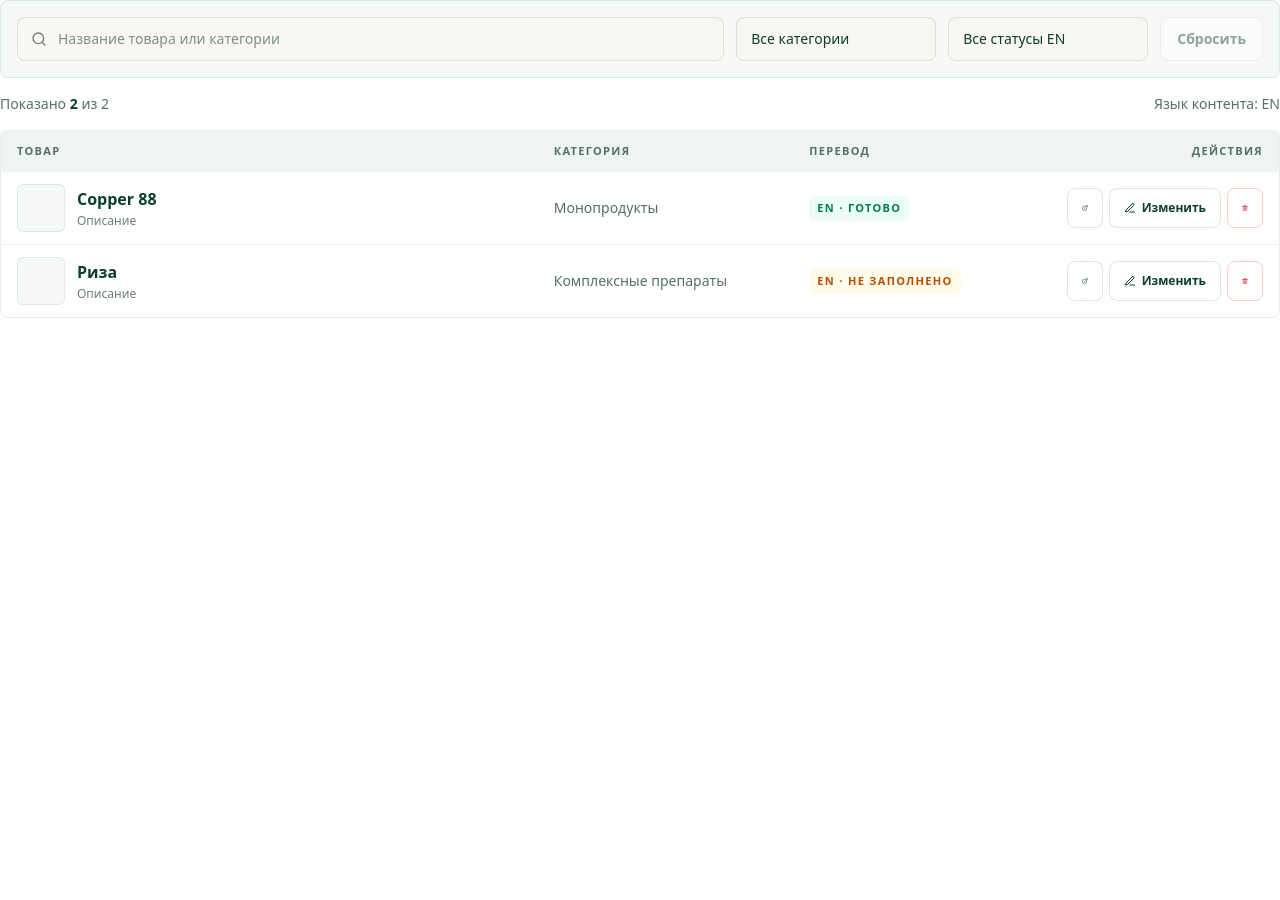
Test case: ProductAdminList › opens an accessible confirmation dialog and cancels without submitting
This screenshot has width=1280, height=900.
Click the button named "Удалить Copper 88". click: (1245, 208)
box: [1227, 188, 1263, 228]
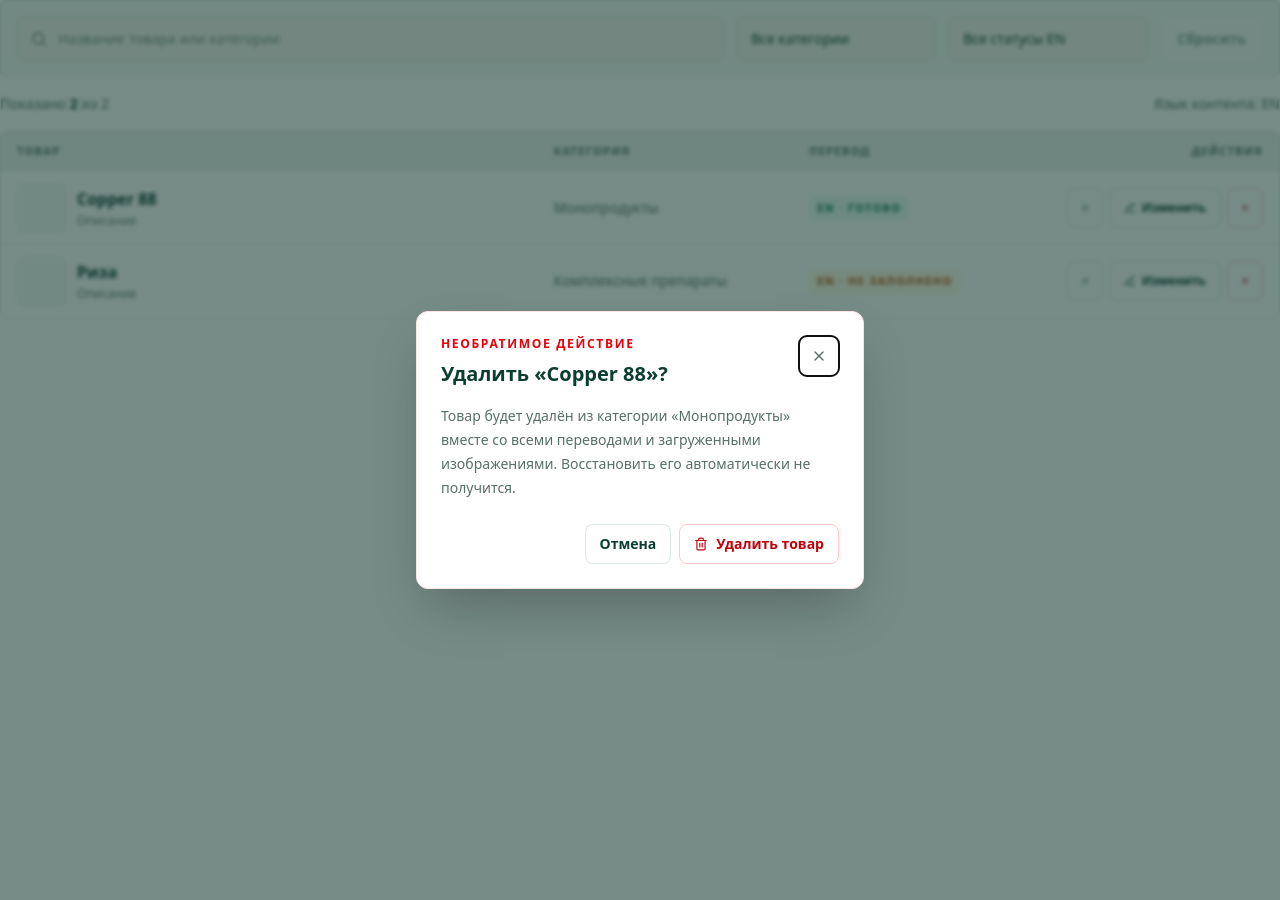
Check: the dialog shows "Удалить «Copper 88»?", box [416, 311, 864, 589]
Click the button "Отмена". click: (628, 544)
box: [585, 524, 671, 564]
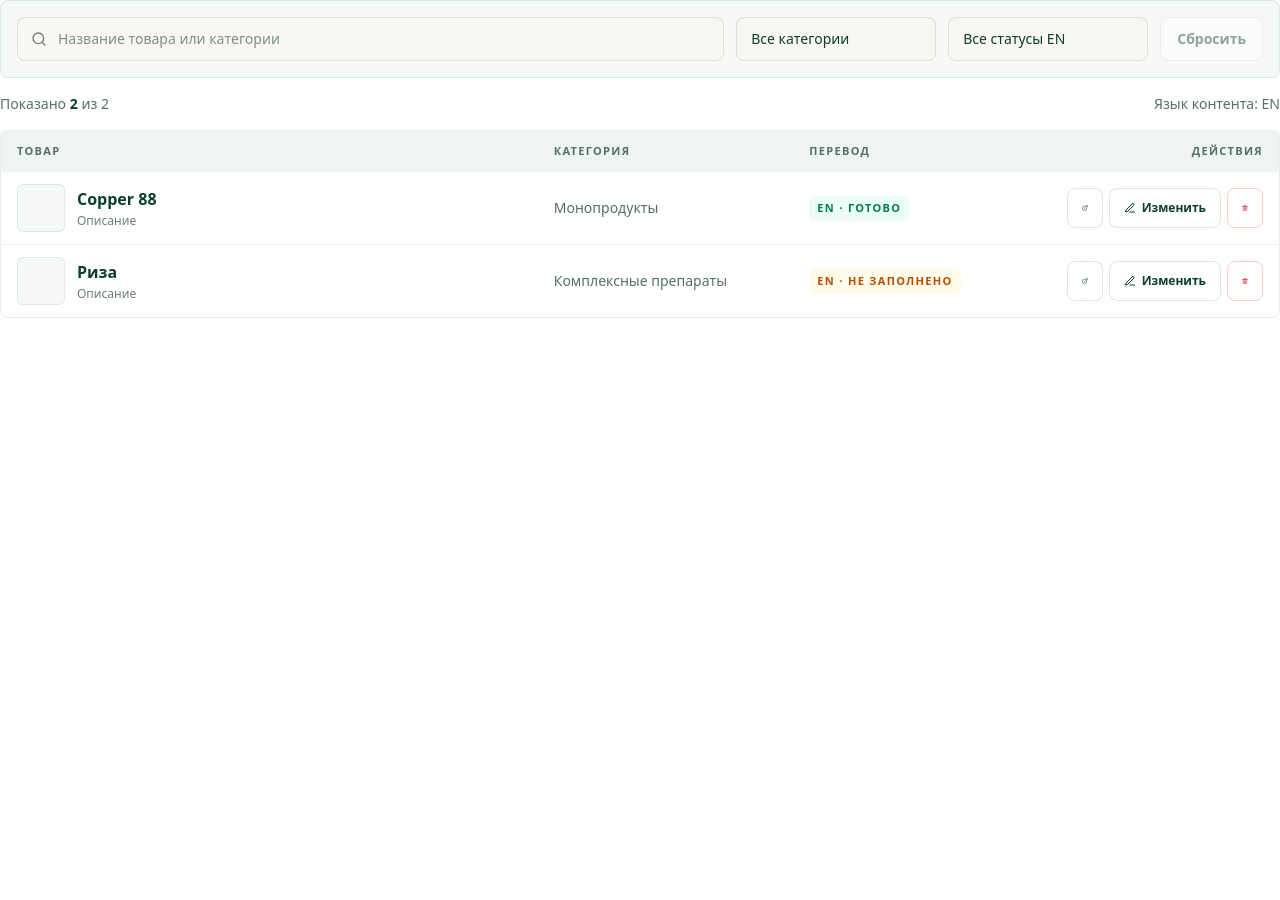
Check: the dialog is gone
